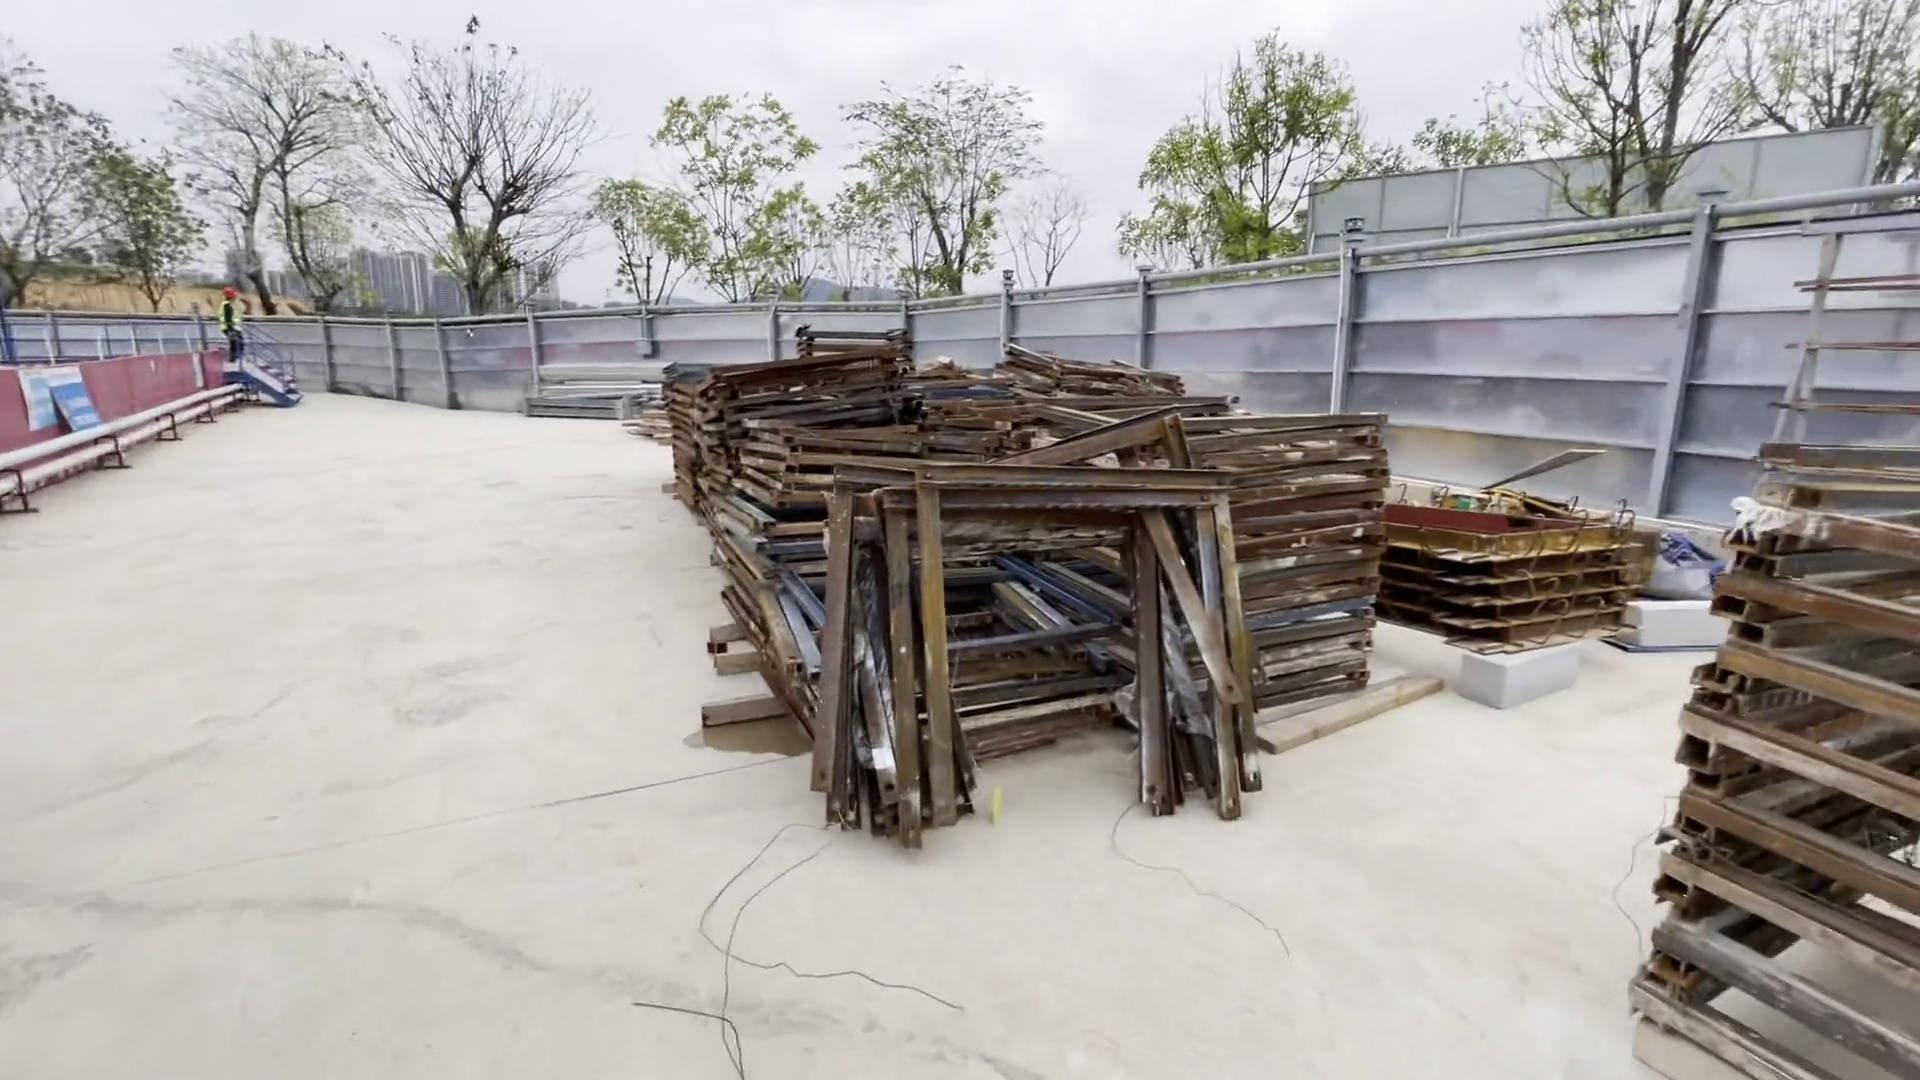fence: (1, 345, 209, 480)
helmet: (215, 280, 243, 299)
person: (210, 282, 252, 357)
vest: (223, 306, 243, 326)
